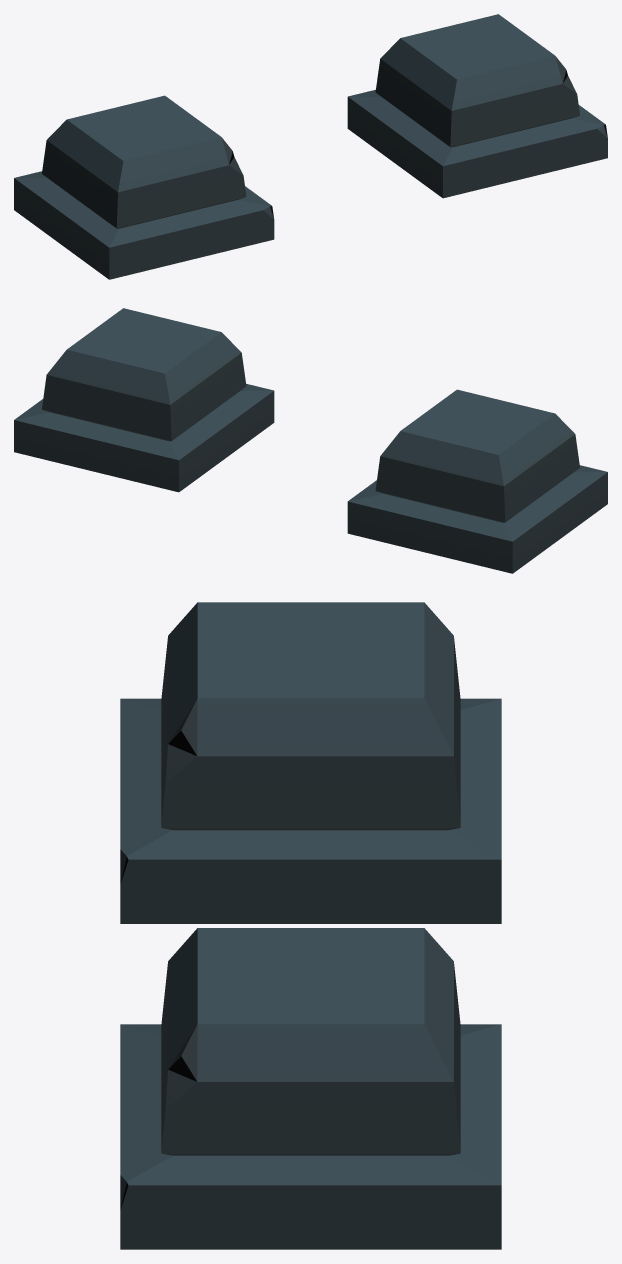
File: stones.fbx
3 views of the same model, one above another, from view 1: azimuth 30°, elevation 25°; view 2: azimuth 150°, elevation 25°; view 3: azimuth 270°, elevation 25° (orthographic). The views are drawn at different scales.
Visible parts, largest first — view 1: Cube.011, Cube.008; view 2: Cube.008, Cube.011; view 3: Cube.011, Cube.008.
Part boxes in pixels (x1,y1,x2,y2): Cube.011: (347, 14, 607, 198); Cube.008: (14, 95, 274, 279); Cube.008: (347, 389, 607, 573); Cube.011: (14, 308, 274, 492); Cube.011: (120, 928, 501, 1249); Cube.008: (120, 602, 501, 923).
Size of the model in its own units: 736 by 136 by 244.
